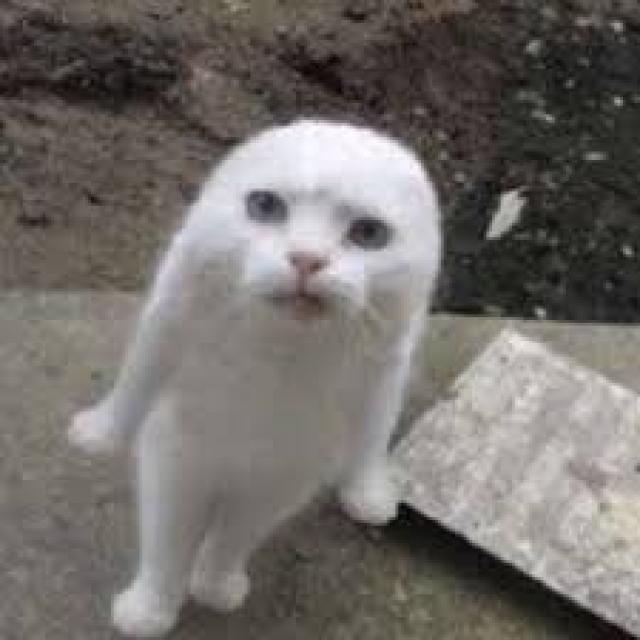cat: (61, 106, 451, 640)
